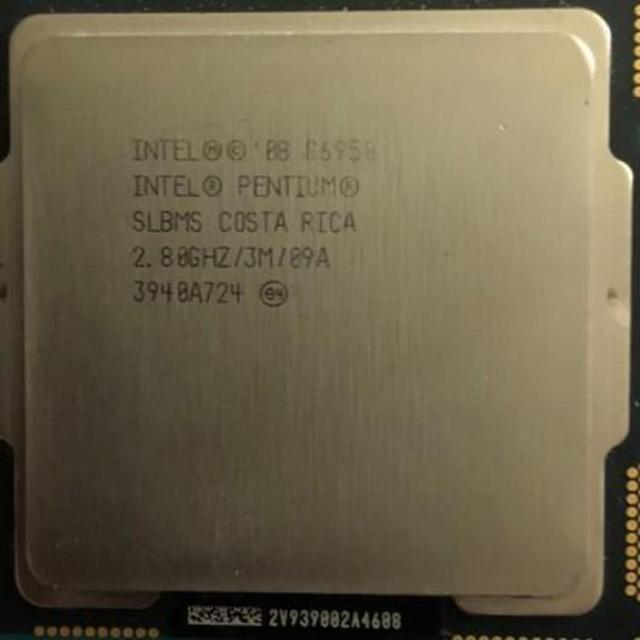CPU: (0, 28, 629, 626)
